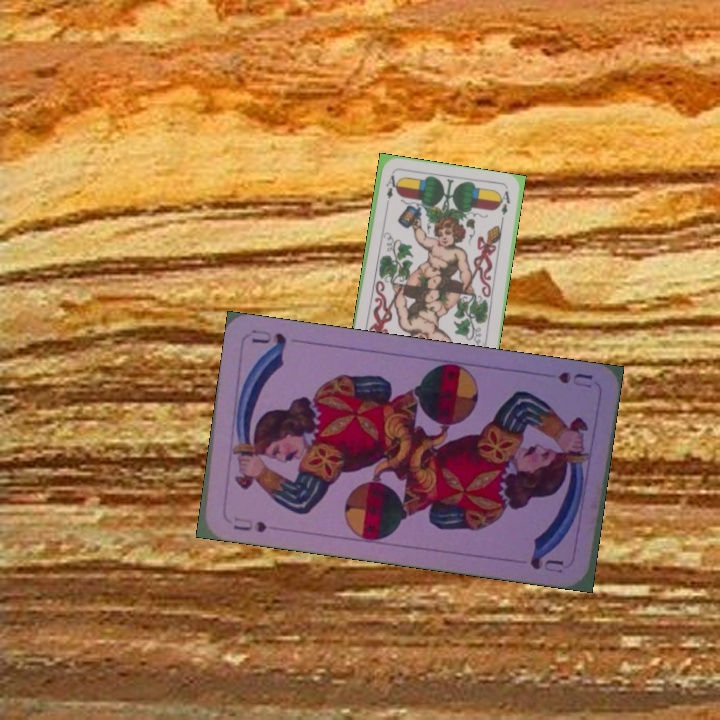EA: (382, 171, 398, 210)
SU: (554, 368, 596, 391), (229, 513, 269, 535)
